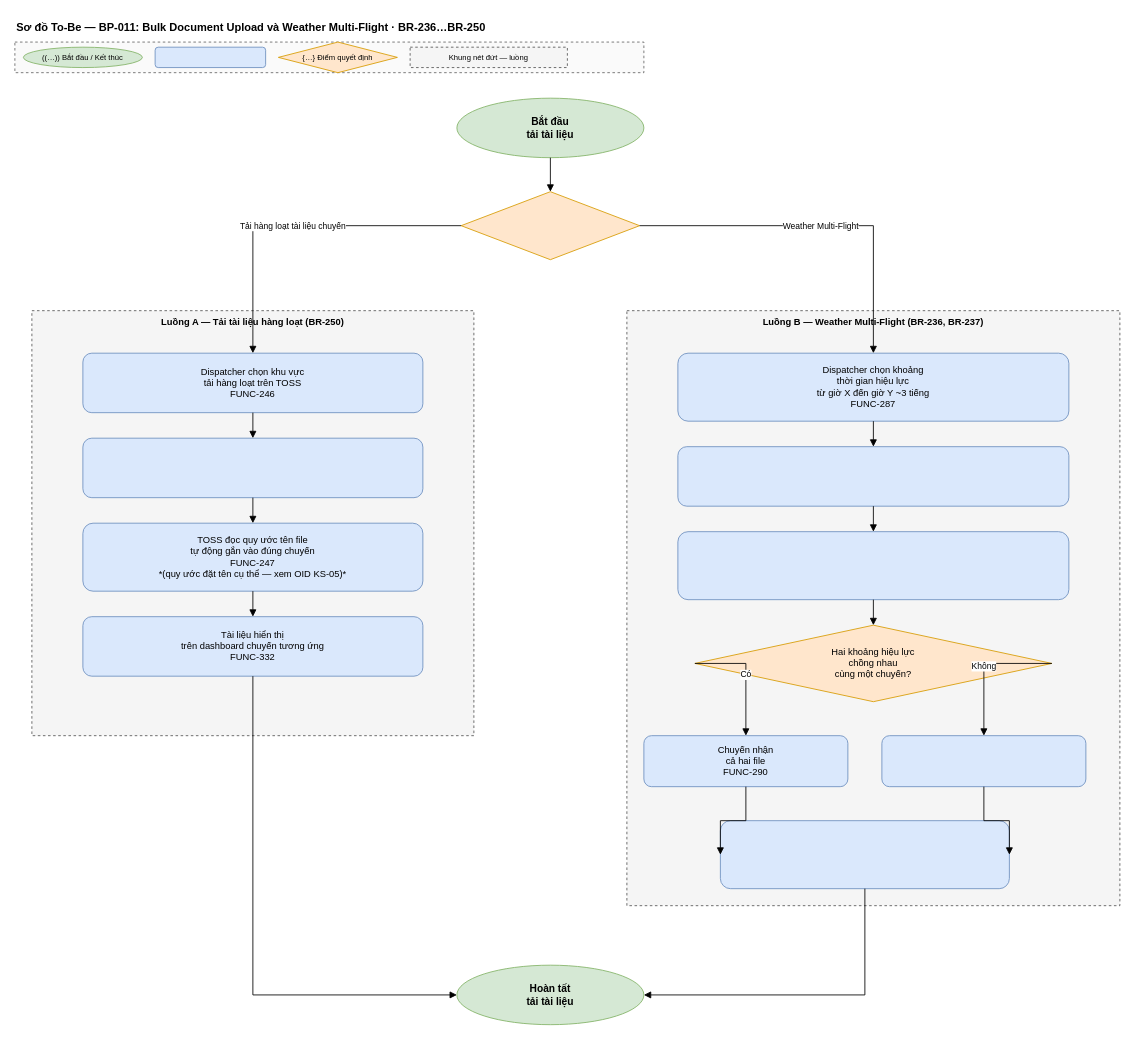
Image size: 1135x1040. Some labels were removed from this diagram. Here are the shapes that lost their labels. From the top down, the centre of each, then its label:
At (x=210, y=57): "[…] Bước xử lý".
At (x=550, y=225): "Loại tải tài liệu?".
At (x=252, y=467): "Upload nhiều file PDF / DOCX / ảnh / TXT BR-249; FUNC-224".
At (x=873, y=476): "Upload file thời tiết khu vực / đường bay BR-236".
At (x=873, y=565): "TOSS tự gắn file vào toàn bộ chuyến có ETD nằm trong khoảng hiệu lực FUNC-288".
At (x=983, y=761): "Gắn file theo khoảng hiệu lực tương ứng".
At (x=864, y=854): "Dispatcher quyết định ẩn hoặc hiện tài liệu trên MO Plus BR-239; FUNC-291".
